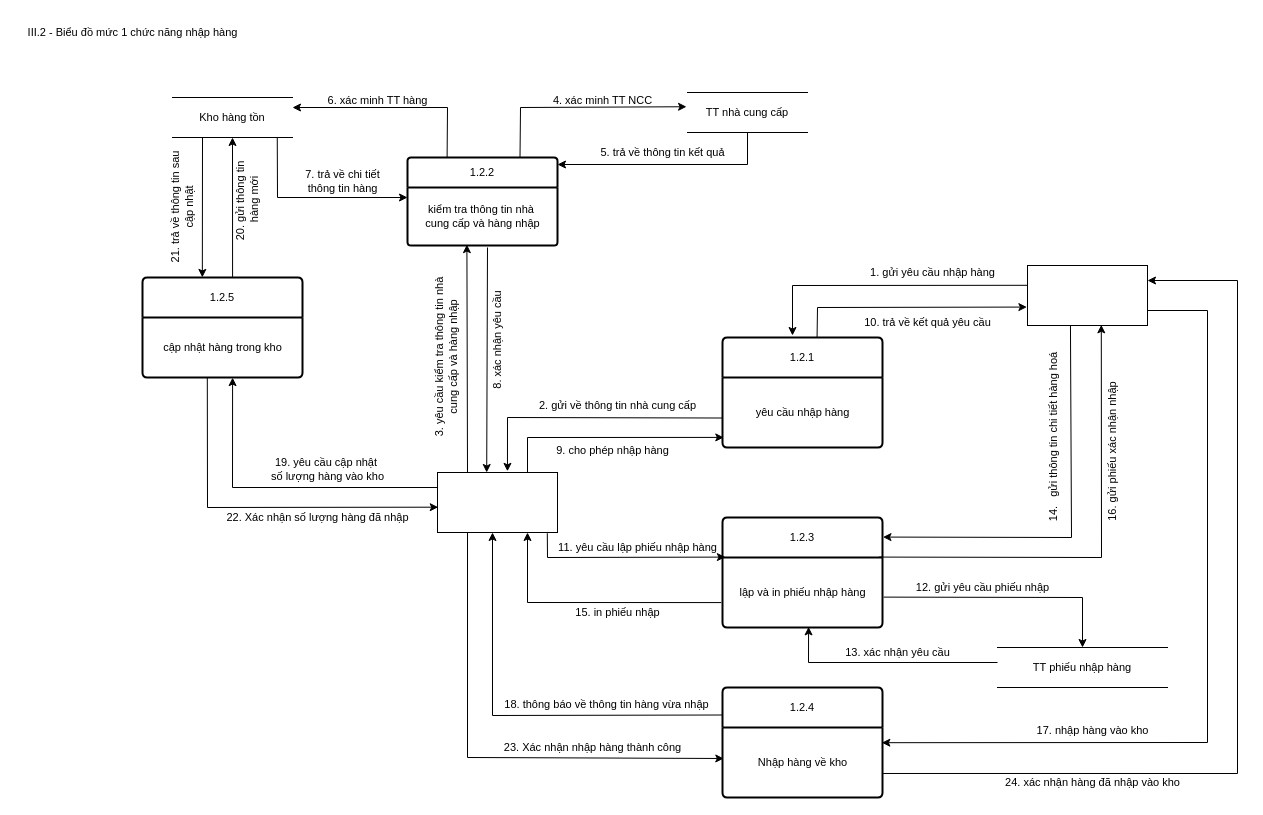
Some shapes in this 1263 by 815 pixel diagram are drawn without their labels. Here are the shapes that lost their labels. From the top down, the centre of each, then its label:
(x=1087, y=295): Nhà Cung Cấp
(x=497, y=502): Nhân viên
